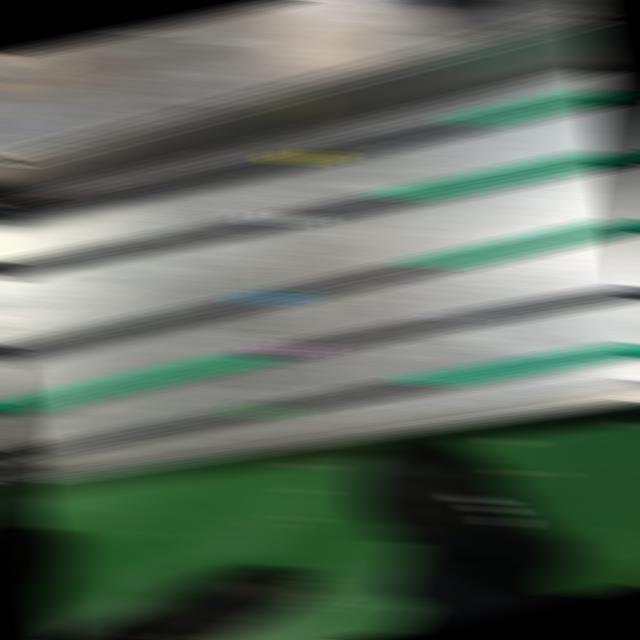blue: (241, 287, 306, 307)
green: (231, 401, 294, 420)
pink: (260, 340, 325, 359)
white: (254, 208, 320, 228)
yellow: (275, 147, 339, 167)
